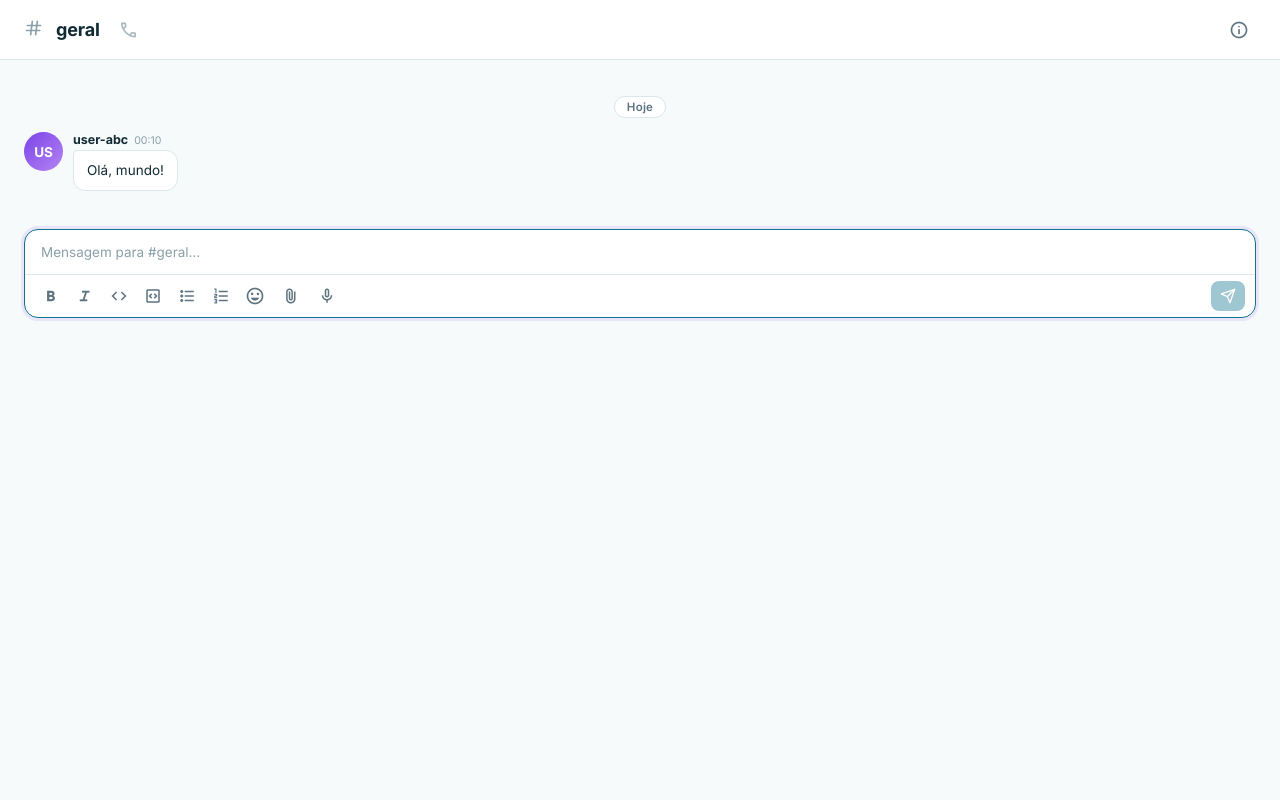
it: ChatMessageArea — message list › lends the same emoji history to the composer's picker
This screenshot has width=1280, height=800.
Click the button with test id "toolbar-emoji-btn" at [255, 296], box x1=239 y1=281 x2=271 y2=311
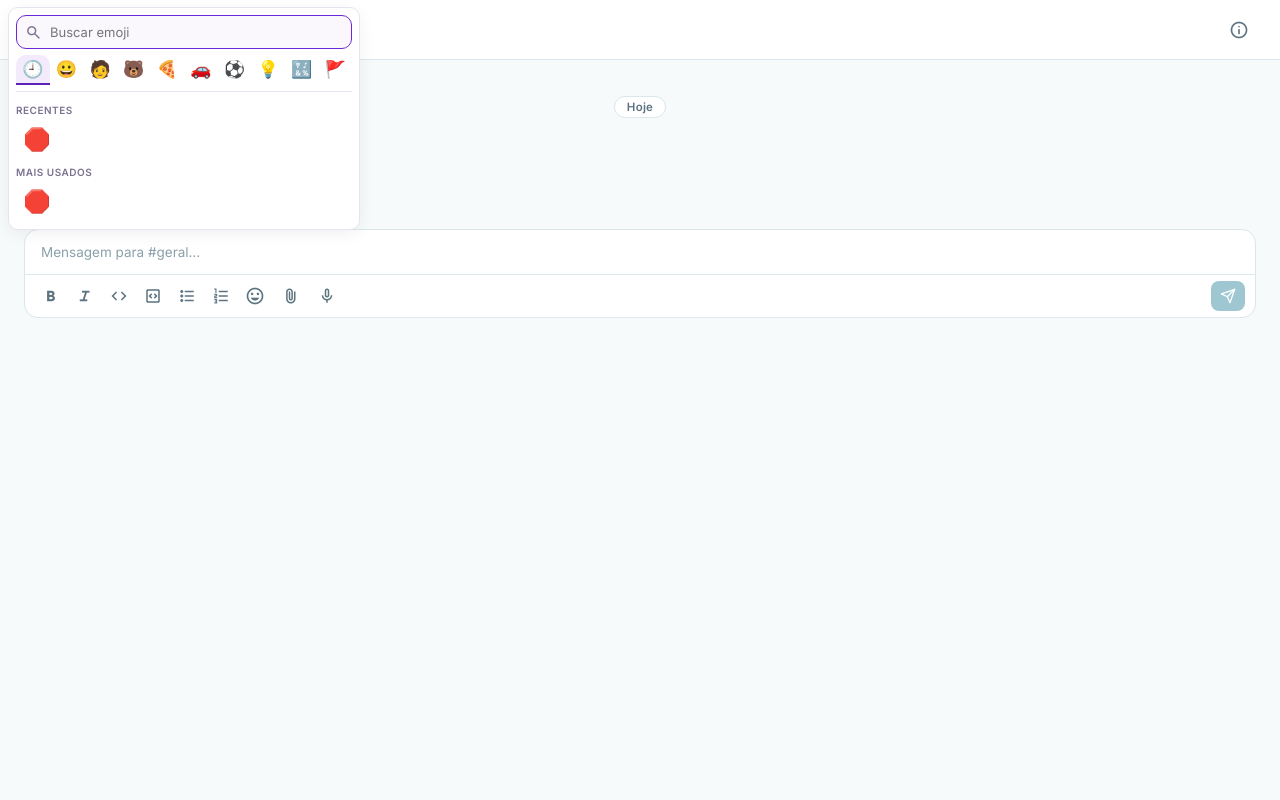
Expected: the search field labelled "Buscar emoji" is shown, x1=48 y1=16 x2=343 y2=48
